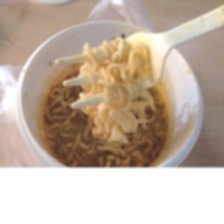paper_cup: (10, 14, 208, 167)
